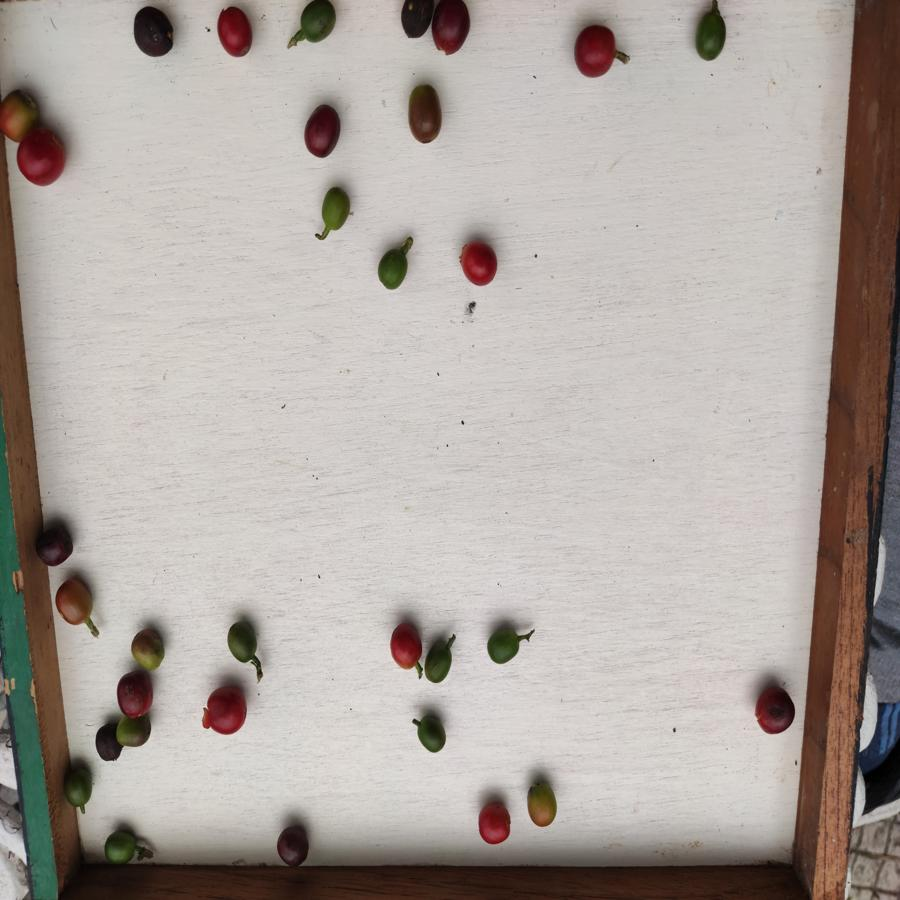Inmaduro: (691, 8, 732, 61), (375, 239, 411, 297), (226, 619, 258, 669), (300, 1, 338, 43), (486, 623, 520, 666), (423, 638, 455, 683), (415, 715, 447, 757), (322, 187, 351, 233), (103, 829, 141, 863), (64, 766, 92, 809), (115, 717, 153, 747)
Maduro: (571, 19, 621, 85), (15, 130, 71, 188), (204, 685, 247, 736), (217, 5, 257, 59), (459, 239, 499, 290), (476, 799, 515, 847), (389, 622, 423, 671)
Pinton: (522, 778, 561, 831), (1, 91, 42, 141), (54, 577, 95, 627), (129, 624, 169, 672)
Sobremaduro: (407, 83, 447, 148), (301, 105, 349, 157), (431, 1, 475, 57), (131, 4, 175, 57), (753, 687, 796, 736), (33, 524, 77, 567), (117, 669, 155, 718), (276, 825, 312, 867), (93, 724, 123, 763), (401, 1, 429, 42)
